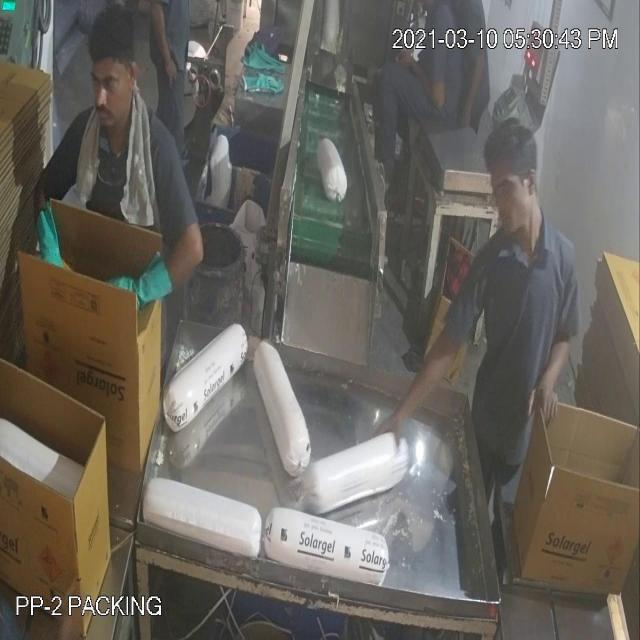No_Gloves: (38, 50, 551, 376)
